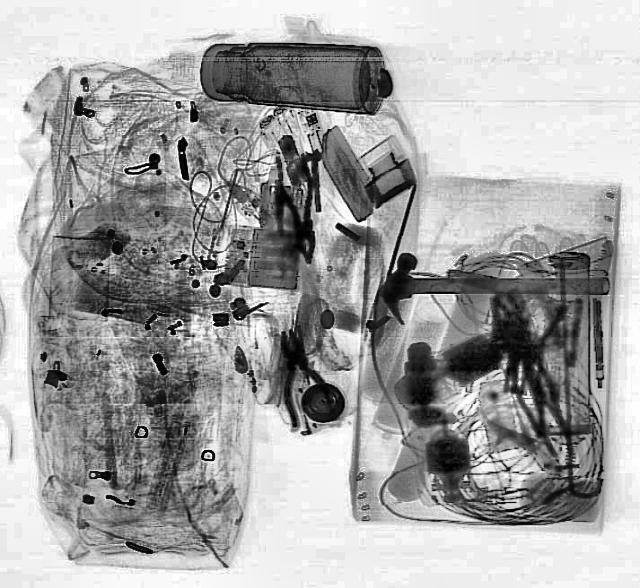Pliers: (262, 323, 336, 427), (270, 150, 332, 268)
